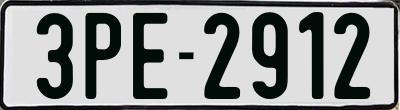1: (297, 9, 322, 102)
2: (201, 13, 243, 100), (332, 10, 370, 97)
3: (37, 11, 78, 100)
9: (250, 9, 292, 101)
E: (130, 10, 168, 101)
P: (84, 11, 122, 97)
